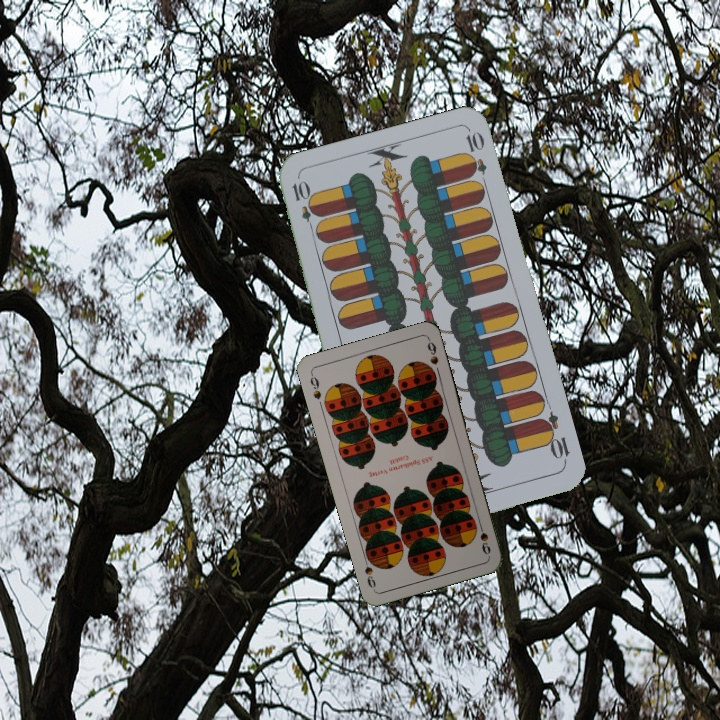E10: (536, 408, 572, 466), (288, 177, 319, 235)
S9: (474, 517, 493, 557), (306, 369, 324, 402)
